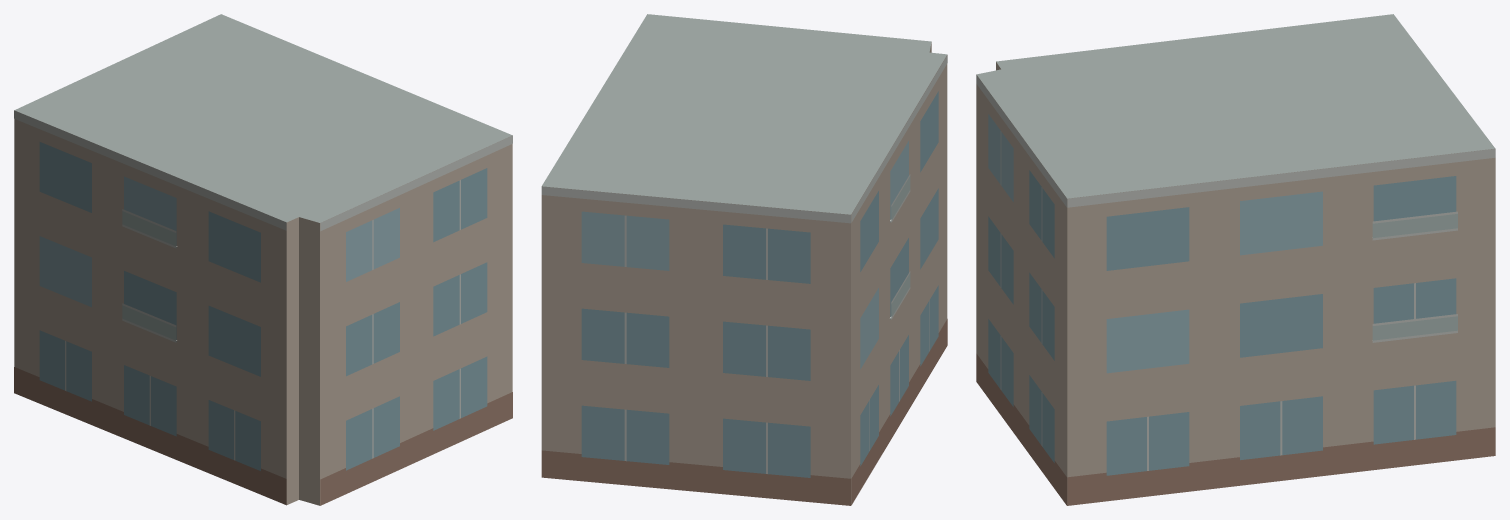
File: survey-upis-32925637.glb
3 views of the same model, side by side, from view 1: azimuth 30°, elevation 25°; view 2: azimuth 150°, elevation 25°; view 3: azimuth 270°, elevation 25° (orthographic). The views are drawn at different scales.
Parts seen in each view (by area): view 1: survey-upis-32925637.tmp; view 2: survey-upis-32925637.tmp; view 3: survey-upis-32925637.tmp.
Part boxes in pixels (box(x1,y1,x2,y2)): survey-upis-32925637.tmp: box(14, 14, 512, 505); survey-upis-32925637.tmp: box(541, 14, 947, 505); survey-upis-32925637.tmp: box(976, 14, 1495, 505).
Size of the model in its own units: 10.58 by 8.2 by 12.57.
